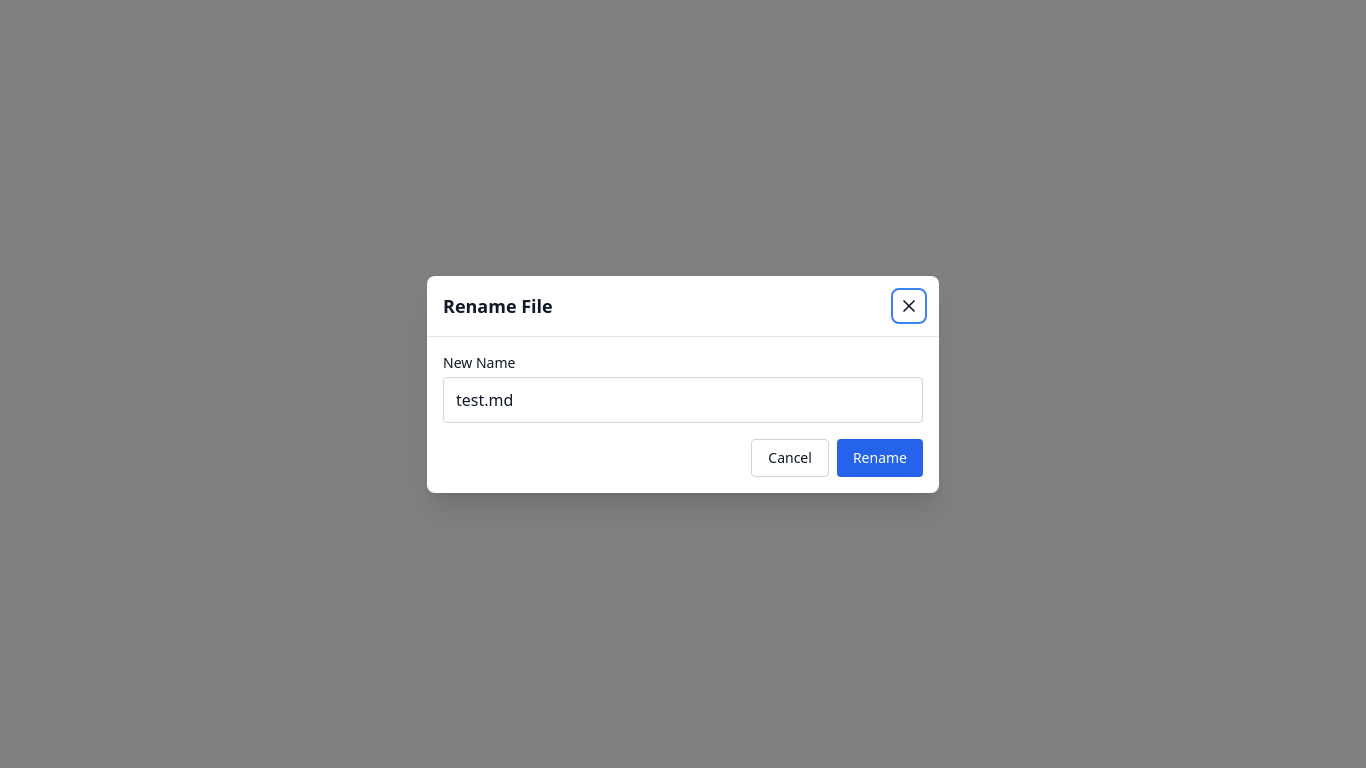
Test case: RenameDialog › shows error for empty name
Clear the field labelled "New Name" at (683, 400), box x1=443 y1=376 x2=923 y2=422
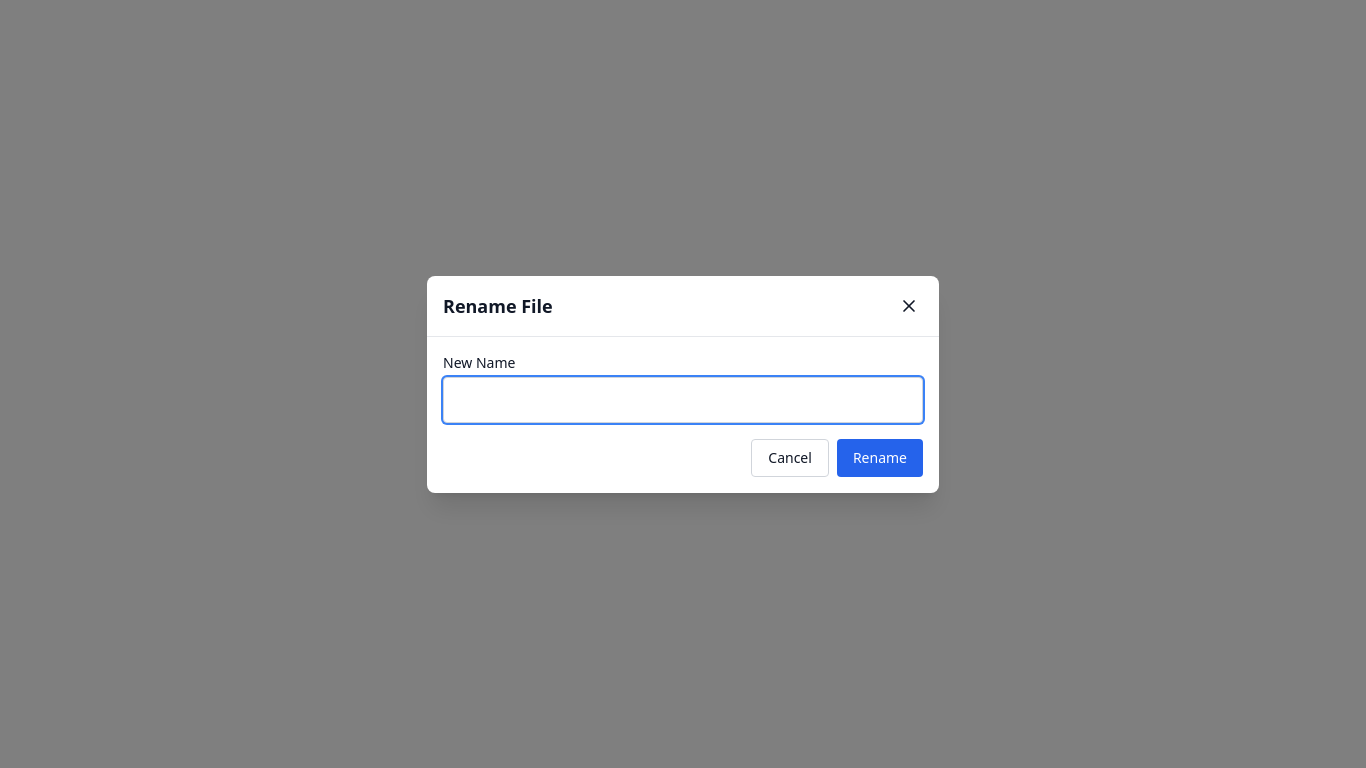
Click the button "Rename" at (880, 458), box x1=837 y1=438 x2=923 y2=476
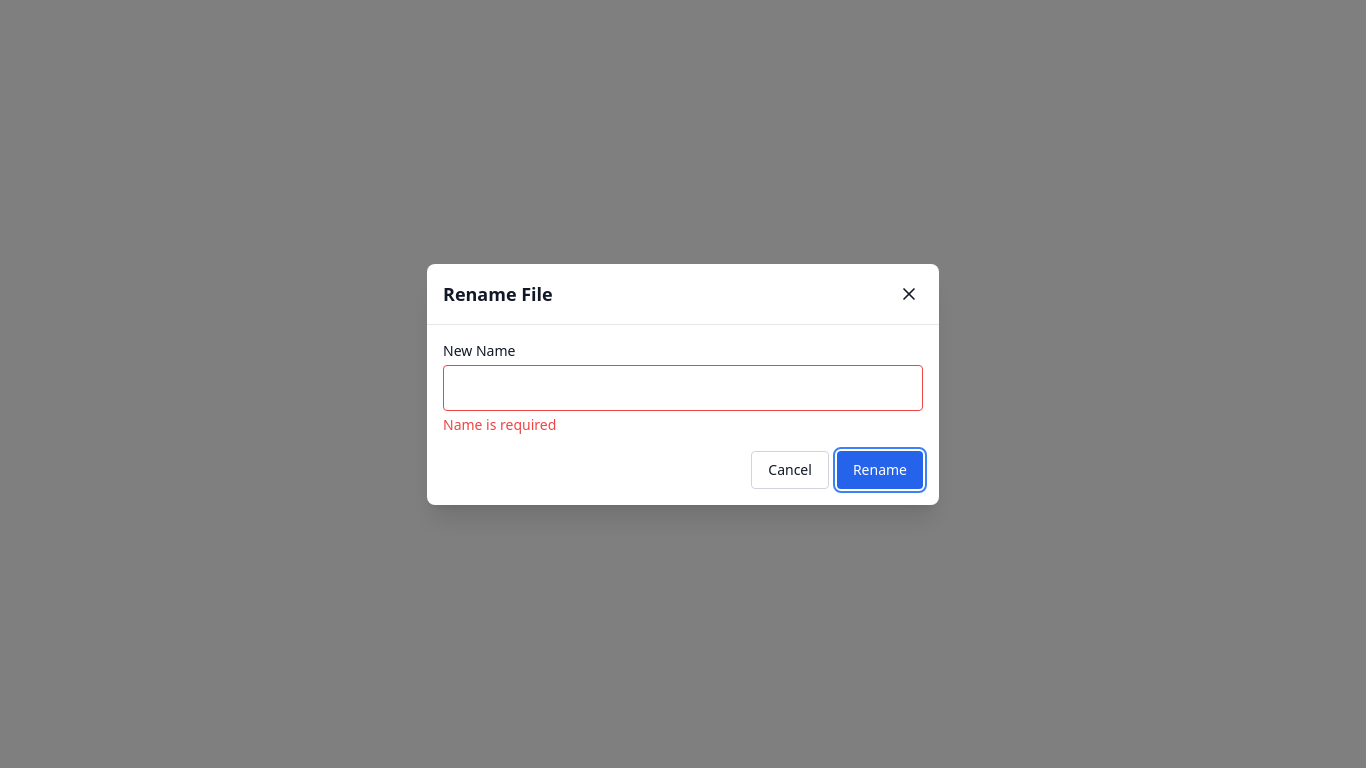
Expected: the text "Name is required" is shown, x1=443 y1=414 x2=556 y2=434
